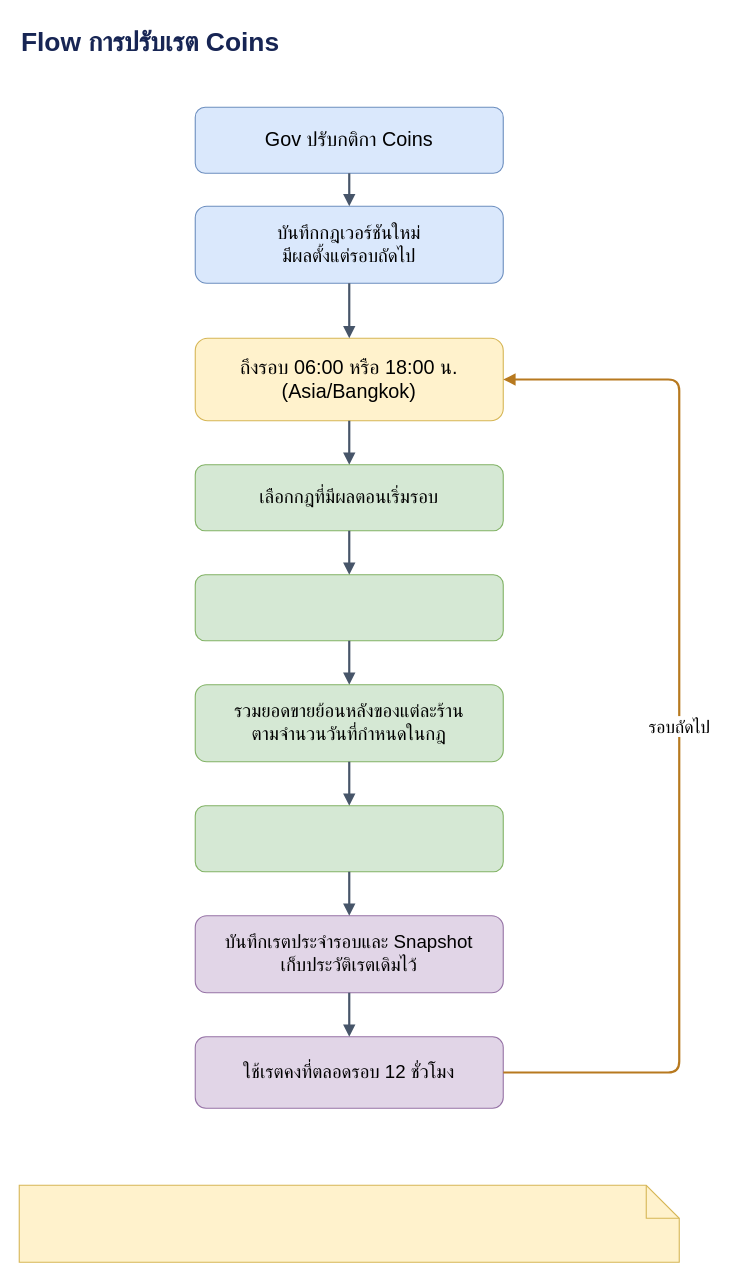
Some shapes in this 729 by 1282 pixel diagram are drawn without their labels. Each missing label, with the centre of its shape:
"คำนวณเรต Coins ใหม่ของแต่ละร้าน" belongs at pixel 348 838.
"ดึงร้านที่ได้รับอนุมัติ (APPROVED)" belongs at pixel 348 607.
"อัปเดตเรตวันละ 2 รอบ แม้ Gov ไม่ปรับกฎ การปรับกฎไม่เปลี่ยนเรตกลางรอบ" belongs at pixel 348 1223.
